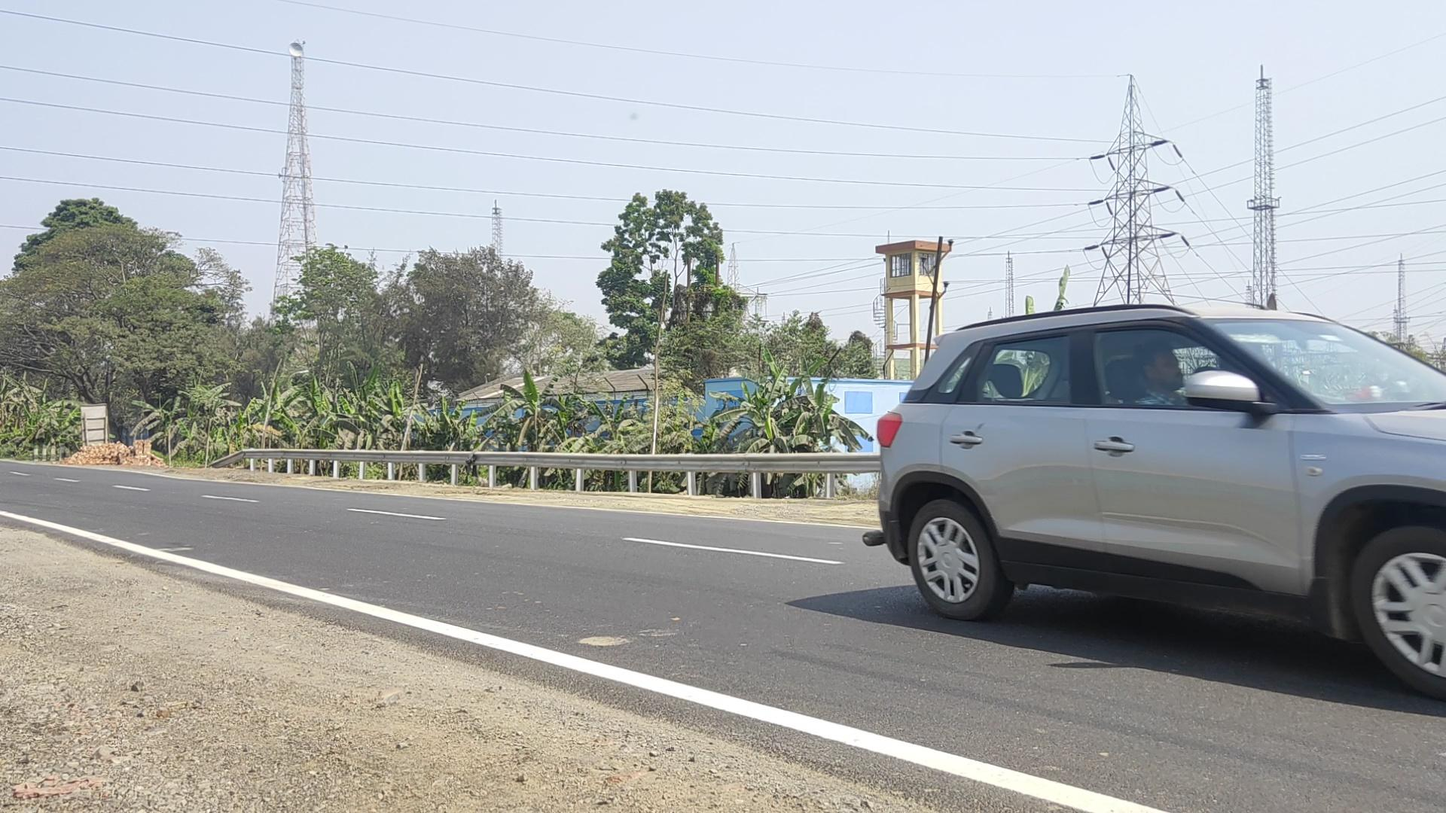car: (862, 303, 1446, 701)
